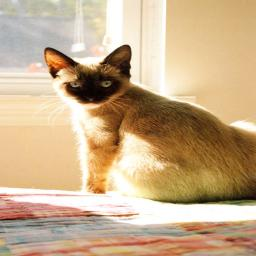catnose: (85, 96, 98, 102)
